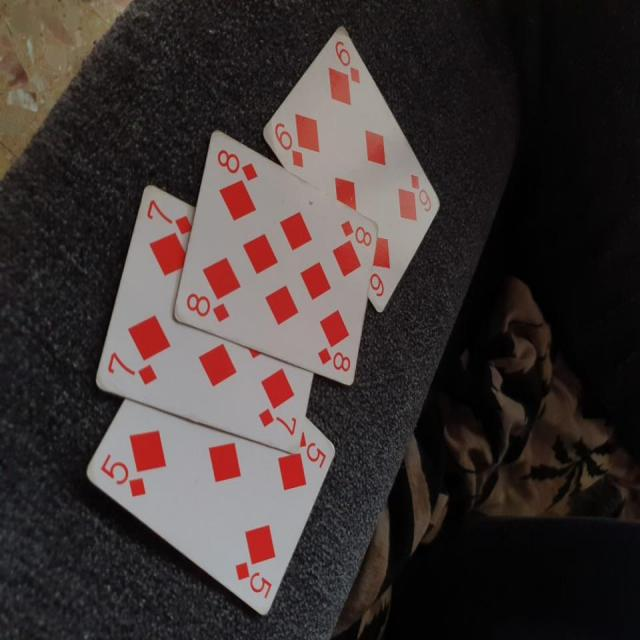5 Diamonds: (86, 397, 339, 618)
6 Diamonds: (263, 21, 439, 316)
7 Diamonds: (92, 182, 313, 454)
8 Diamonds: (175, 128, 377, 387)
